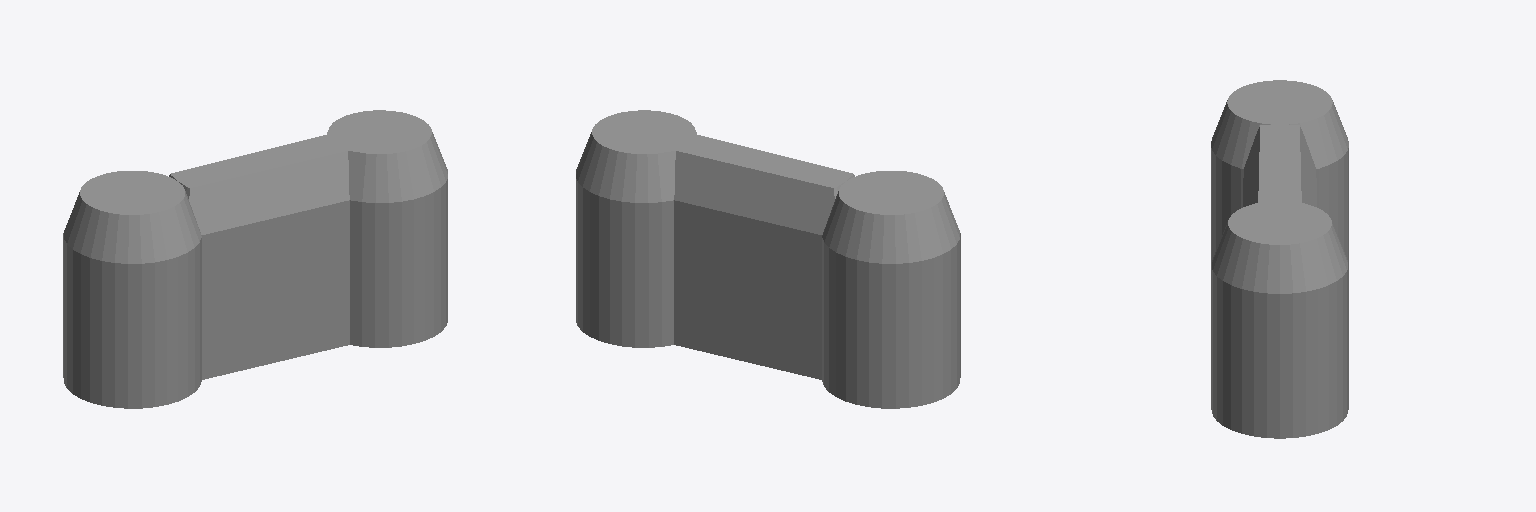
Rendered from lanes2.obj.
3 renders of one model, left to right at view 1: azimuth 30°, elevation 25°; view 2: azimuth 150°, elevation 25°; view 3: azimuth 270°, elevation 25°, orthographic.
Parts seen in each view (by area): view 1: Cylinder.001_Cylinder.001; view 2: Cylinder.001_Cylinder.001; view 3: Cylinder.001_Cylinder.001.
Part boxes in pixels (x1,y1,x2,y2): Cylinder.001_Cylinder.001: (63,110,447,408); Cylinder.001_Cylinder.001: (576,110,960,408); Cylinder.001_Cylinder.001: (1211,80,1348,438).
Size of the model in its own units: 2.19 by 1.07 by 0.7172.